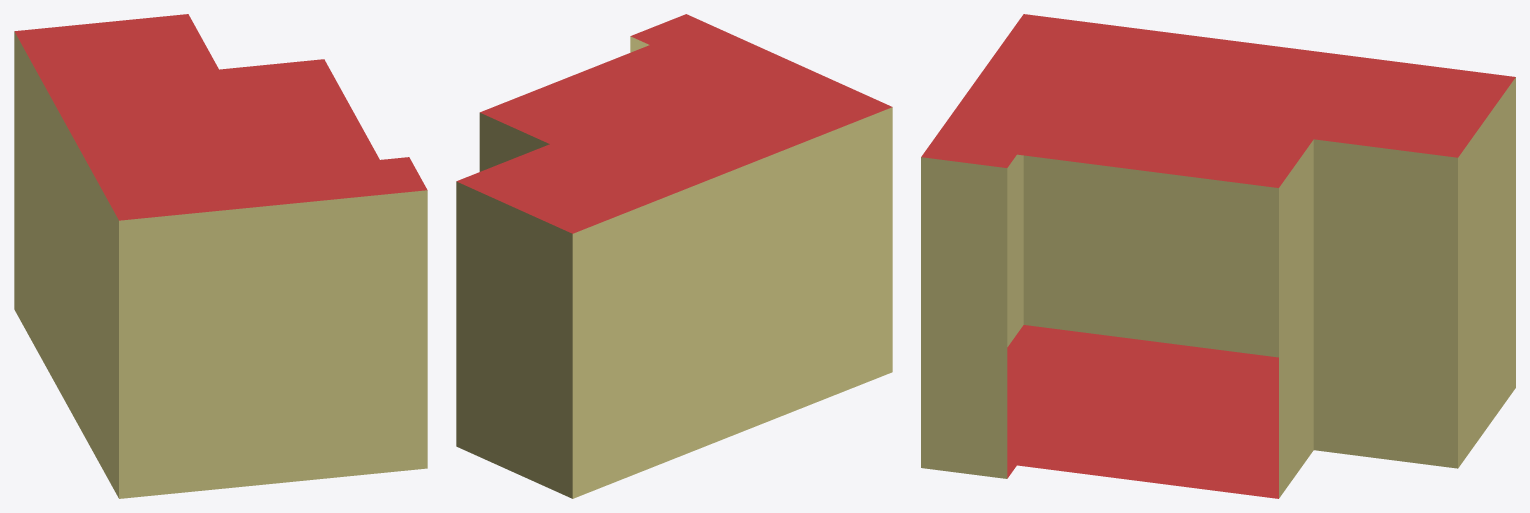
The picture shows the model from 3 angles, left to right: view 1: azimuth 30°, elevation 25°; view 2: azimuth 150°, elevation 25°; view 3: azimuth 270°, elevation 25°; orthographic projection. The views are drawn at different scales.
Visible parts, largest first — view 1: group_4, group_3; view 2: group_4, group_3; view 3: group_4, group_3, group_5.
Part boxes in pixels (box(x1,y1,x2,y2)): group_4: box(14, 31, 427, 498); group_3: box(14, 14, 427, 220); group_4: box(456, 36, 892, 498); group_3: box(456, 14, 892, 233); group_4: box(921, 77, 1515, 498); group_3: box(921, 14, 1515, 187); group_5: box(1007, 325, 1278, 498).
Size of the model in its own units: 7.16 by 10.34 by 5.96.
